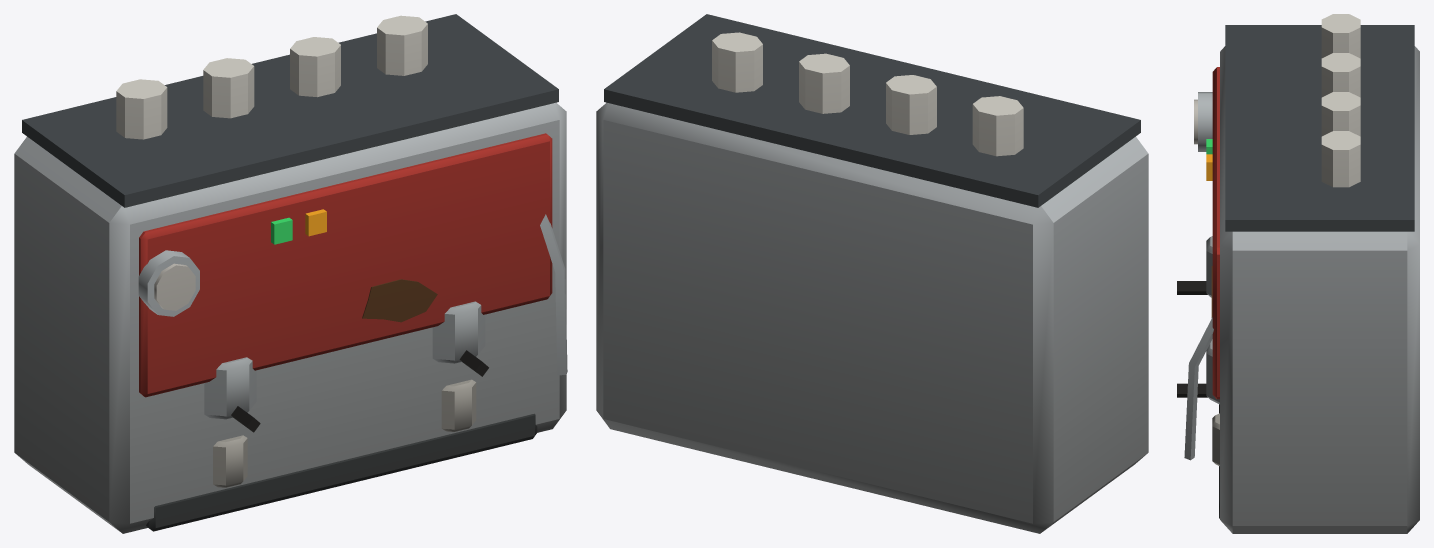
Rendered from 64_machine_cafe.fbx.
3 renders of one model, left to right at view 1: azimuth 30°, elevation 25°; view 2: azimuth 150°, elevation 25°; view 3: azimuth 270°, elevation 25°, orthographic. The views are drawn at different scales.
Visible parts, largest first — view 1: Machine, Voyants; view 2: Machine; view 3: Machine.
Boxes of the visible parts, left/top/right/bottom form: Machine: left=14, top=14, right=567, bottom=533; Voyants: left=271, top=209, right=326, bottom=244; Machine: left=596, top=14, right=1148, bottom=533; Machine: left=1177, top=14, right=1419, bottom=533.
Bounding box in the file's own units: 0.56 × 0.448 × 0.28.
1 material, 1 textured.
